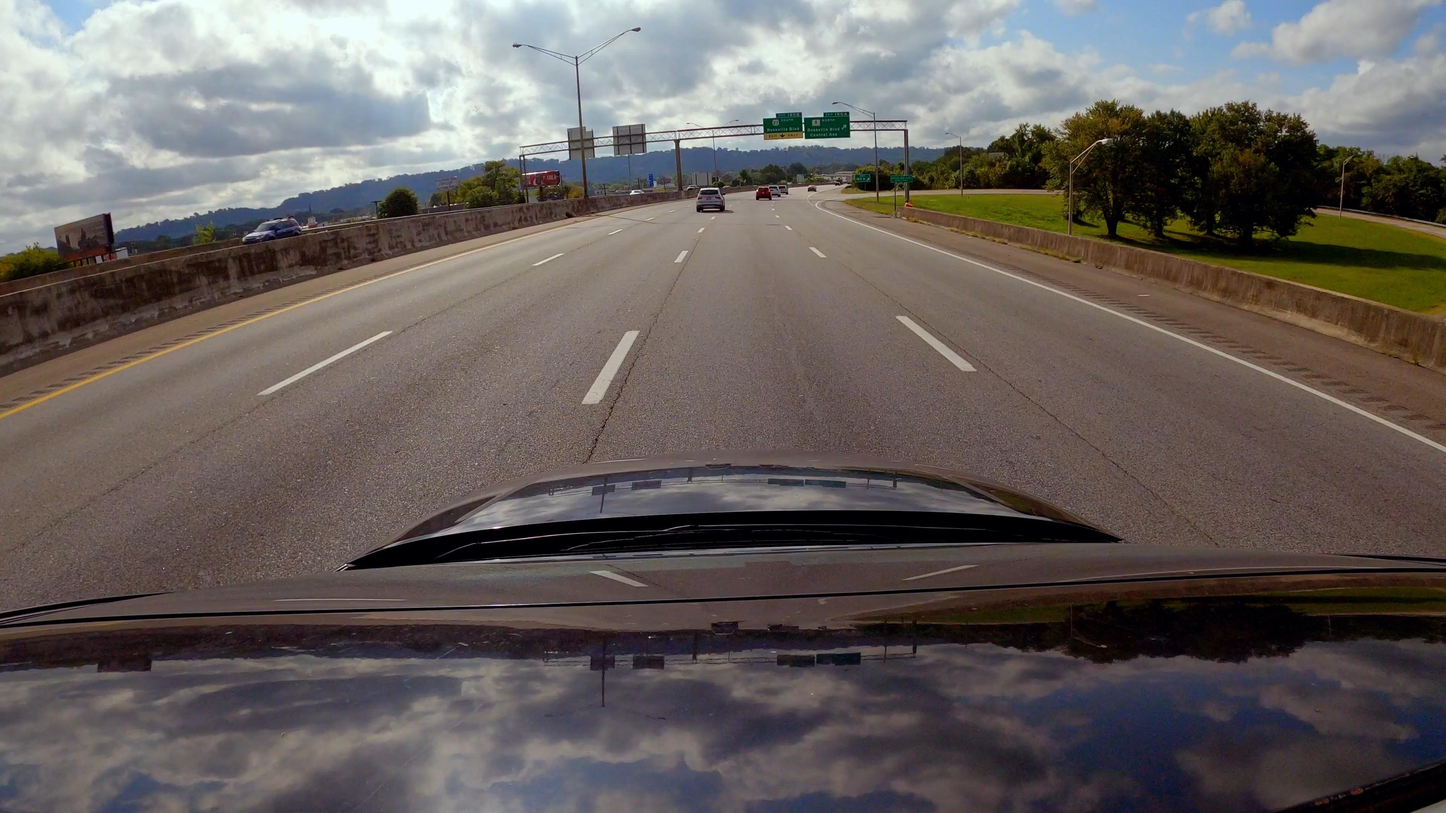dry: (0, 185, 1446, 616)
